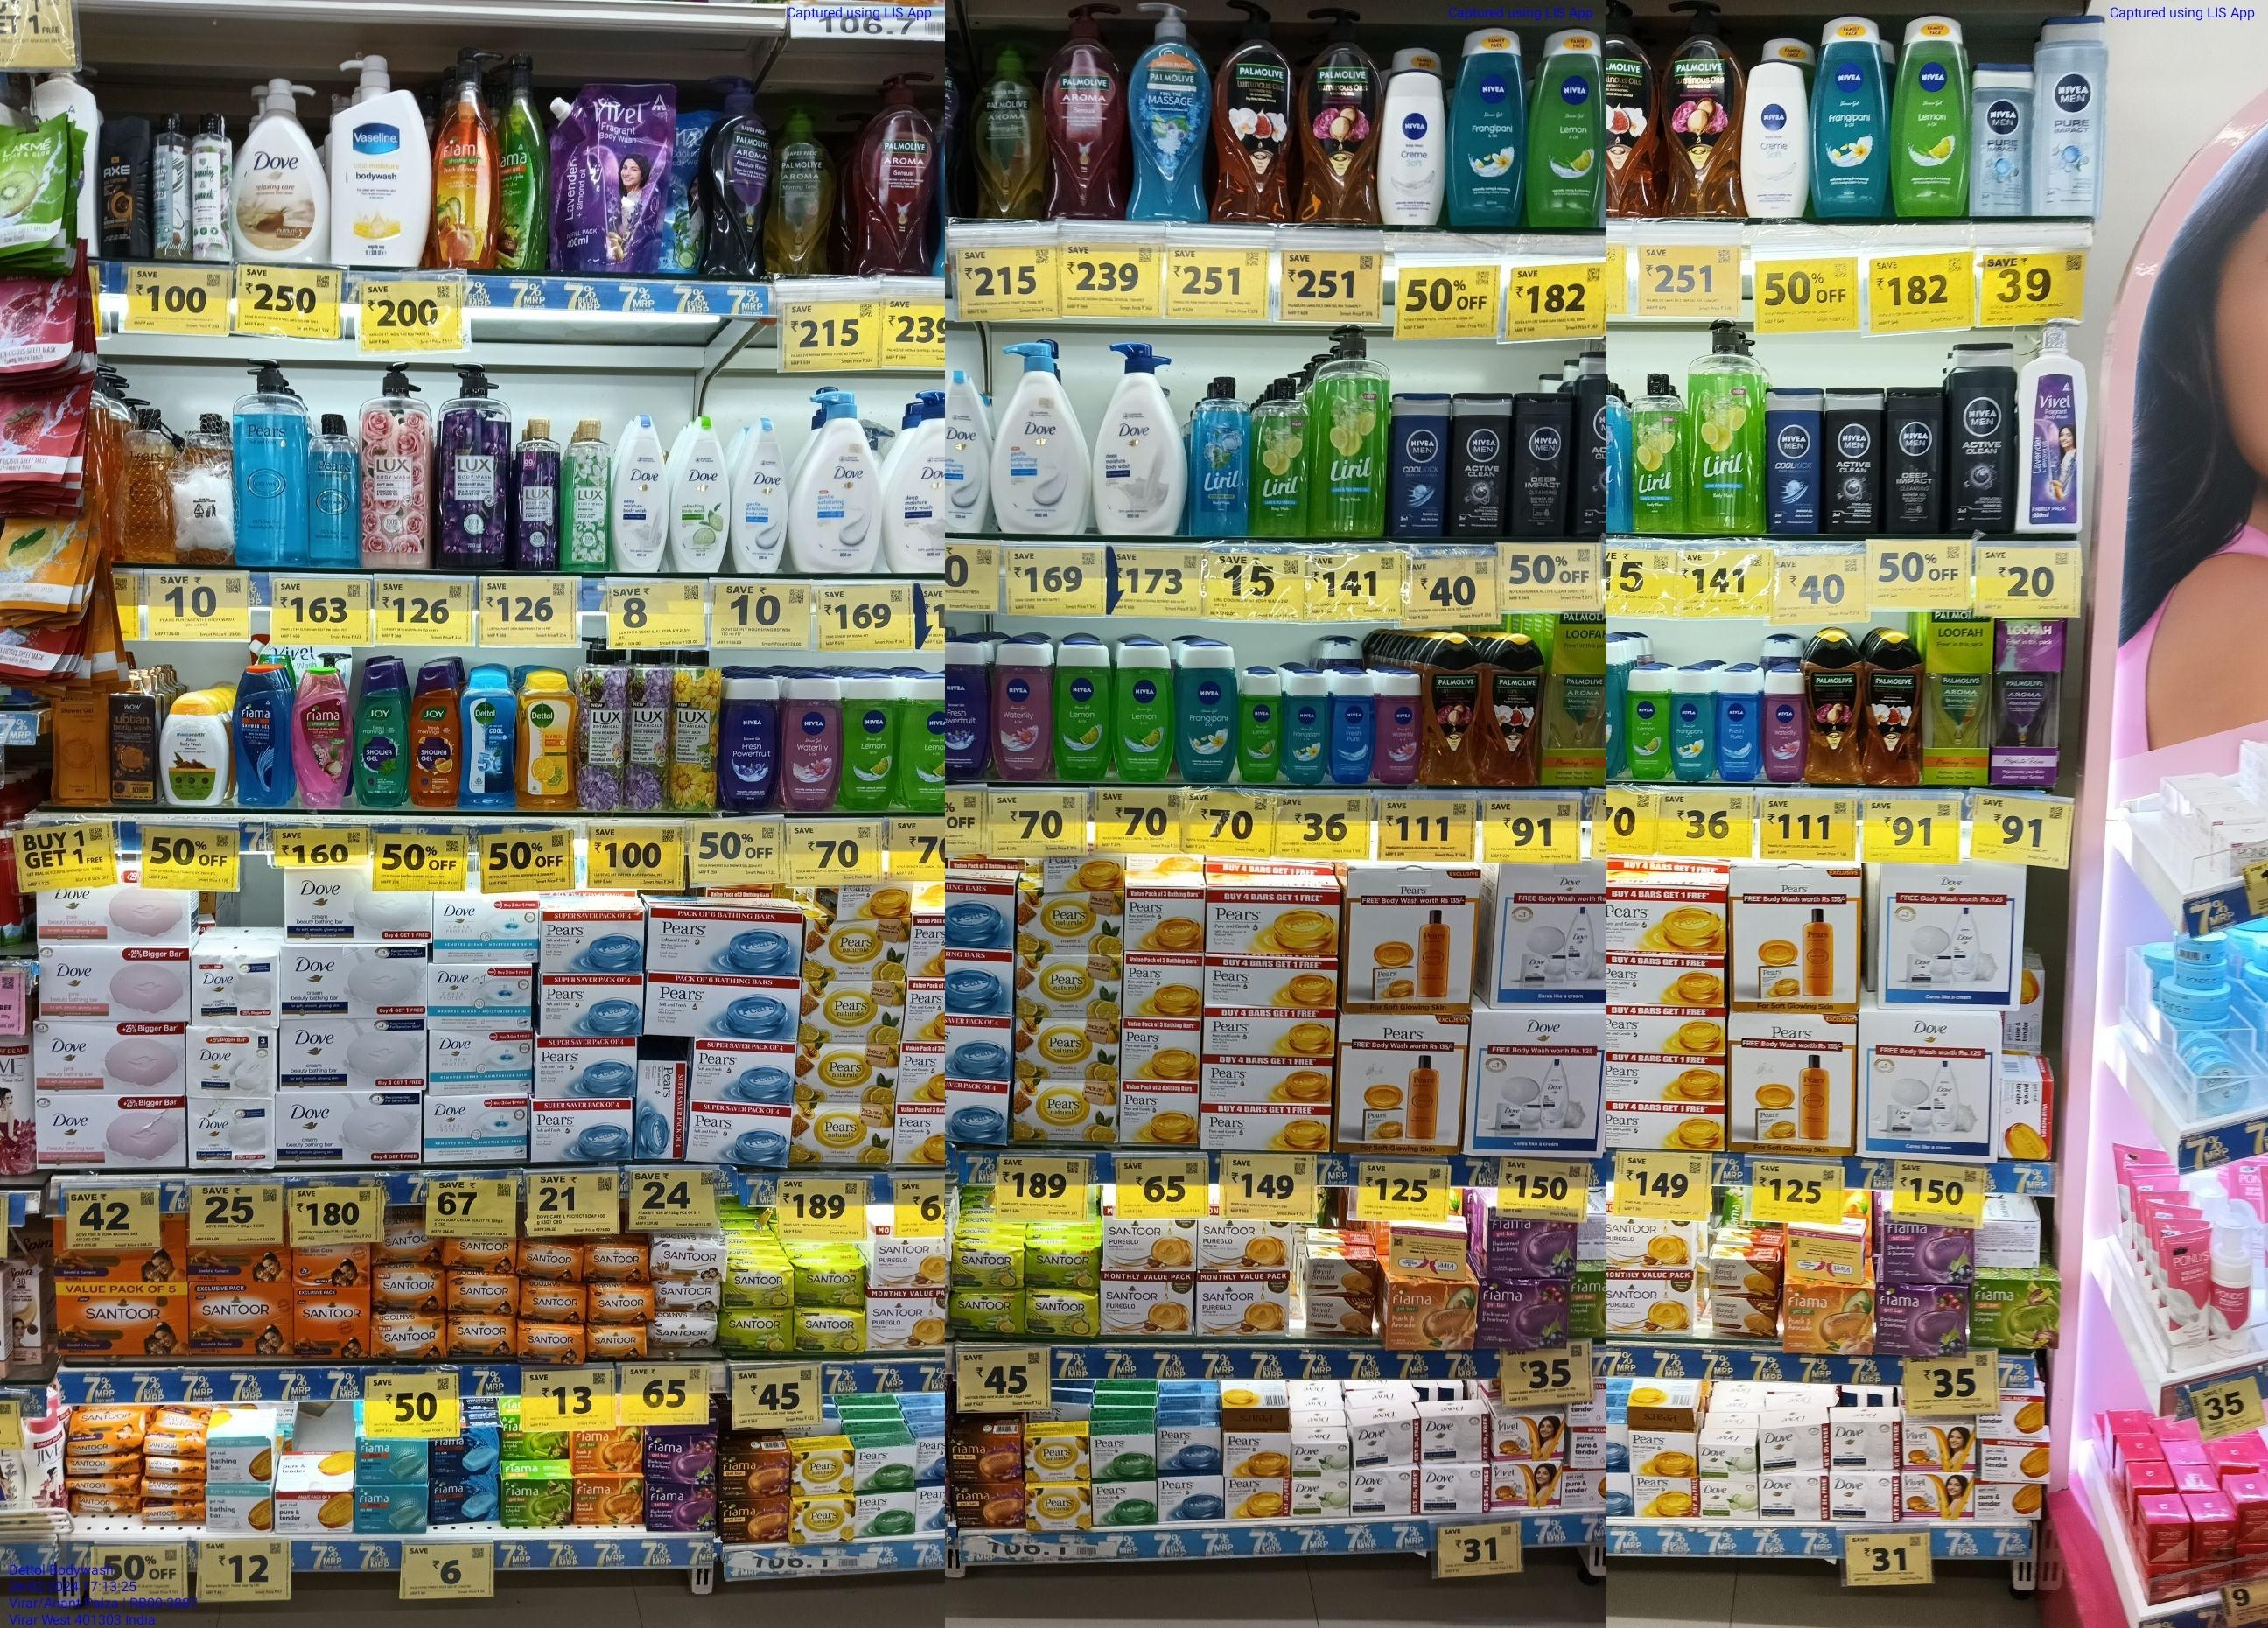Nivea_Shower_Gel_Lemon_and_Oil_250ML: (312, 412, 394, 544), (840, 850, 1025, 880), (310, 408, 317, 419), (313, 385, 315, 414)
